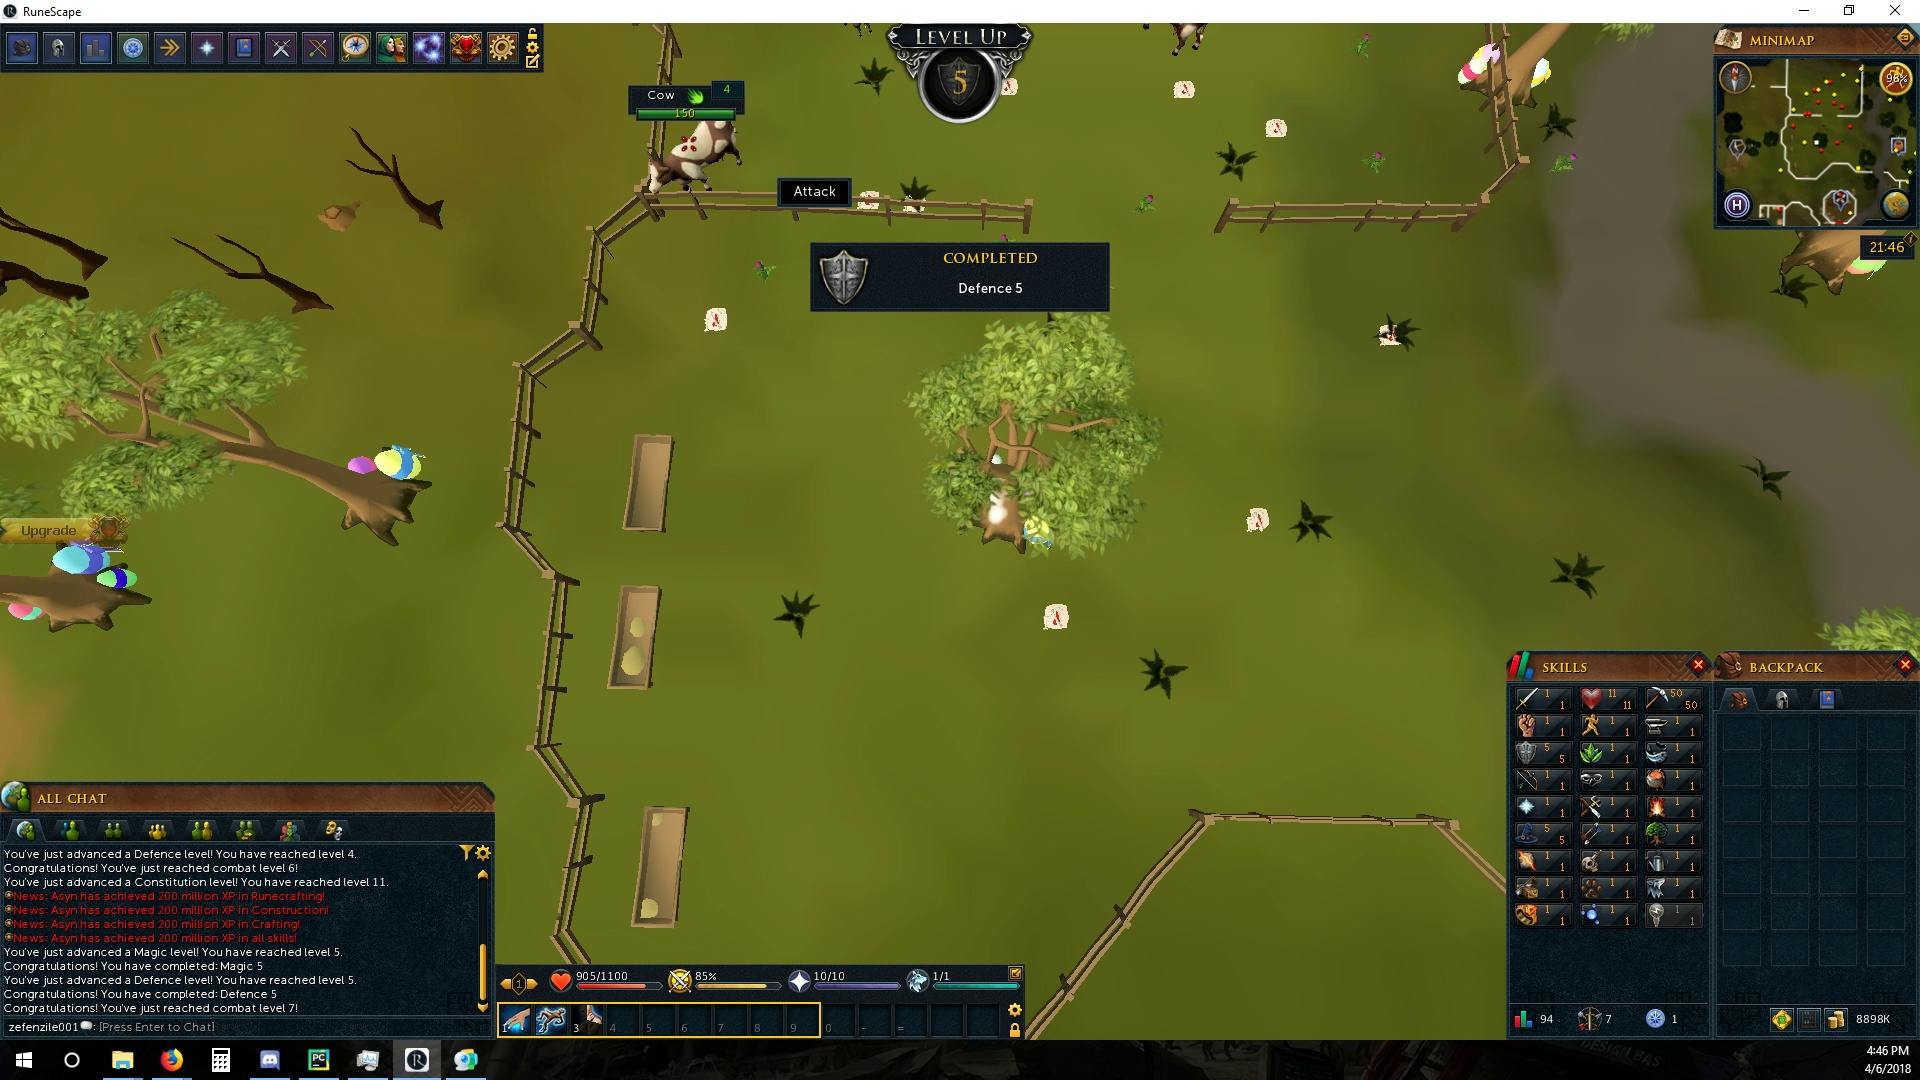cow: (645, 121, 750, 200)
cow_drop: (698, 301, 731, 334), (1040, 600, 1073, 632), (1244, 505, 1271, 535), (1379, 318, 1407, 348), (856, 187, 885, 215), (1263, 115, 1291, 142), (1168, 79, 1200, 100), (1002, 76, 1022, 102)
